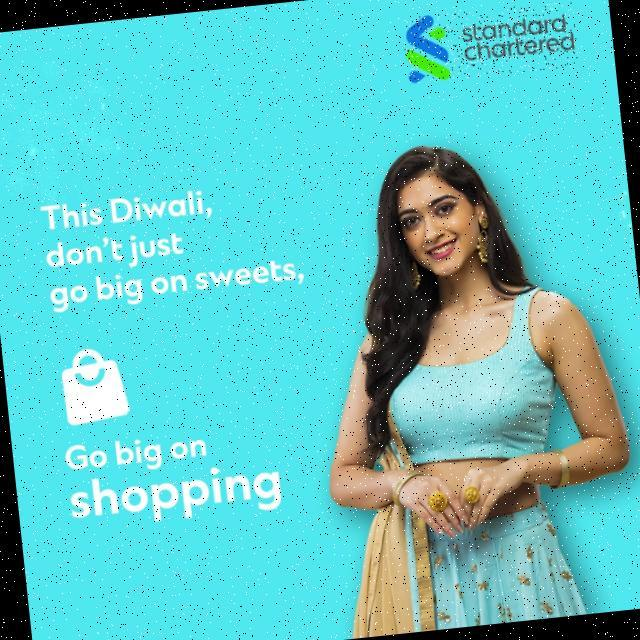Standard Chartered: (401, 0, 579, 83)
